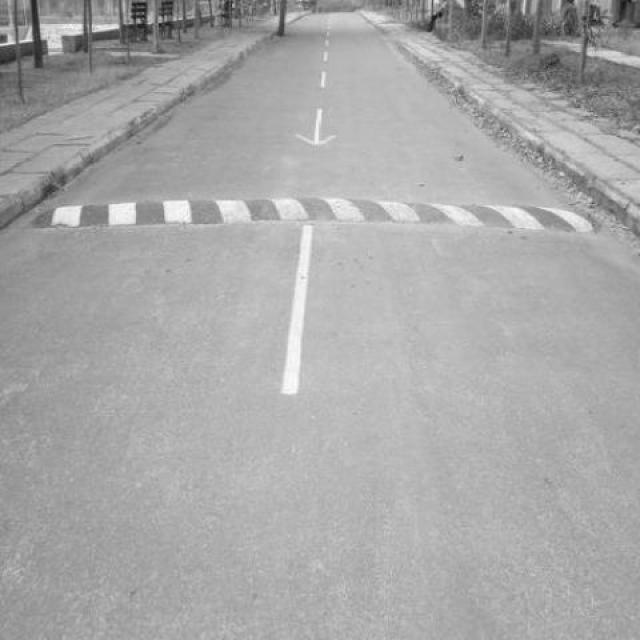Pothole: (52, 221, 70, 229), (520, 234, 527, 242)
Speed Bump: (27, 199, 600, 231)
